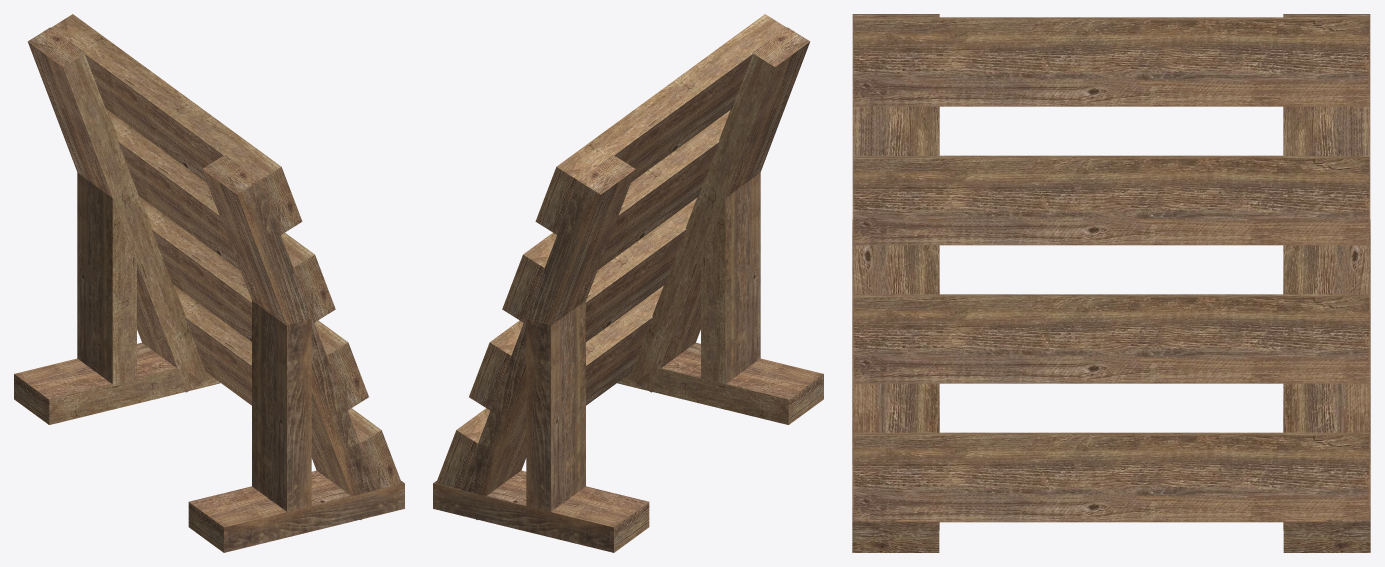
The model's file is blockade.glb.
3 views of the same model, side by side, from view 1: azimuth 30°, elevation 25°; view 2: azimuth 150°, elevation 25°; view 3: azimuth 270°, elevation 25° (orthographic). The views are drawn at different scales.
Visible parts, largest first — view 1: Cube.008, Cube.009, Cube.010, Cube.011; view 2: Cube.008, Cube.009, Cube.010, Cube.011; view 3: Cube.008, Cube.009, Cube.011.
Boxes of the visible parts, x1,y1,x2,y2 form: Cube.008: [51, 14, 401, 489]; Cube.009: [27, 27, 377, 519]; Cube.010: [77, 173, 311, 513]; Cube.011: [14, 342, 404, 552]; Cube.008: [436, 14, 786, 489]; Cube.009: [460, 27, 810, 519]; Cube.010: [526, 173, 760, 511]; Cube.011: [433, 342, 823, 552]; Cube.008: [853, 17, 1369, 522]; Cube.009: [852, 14, 1370, 530]; Cube.011: [852, 465, 1370, 552].
Bounding box in the file's own units: 0.75 × 1.47 × 1.51.
1 material, 1 textured.
